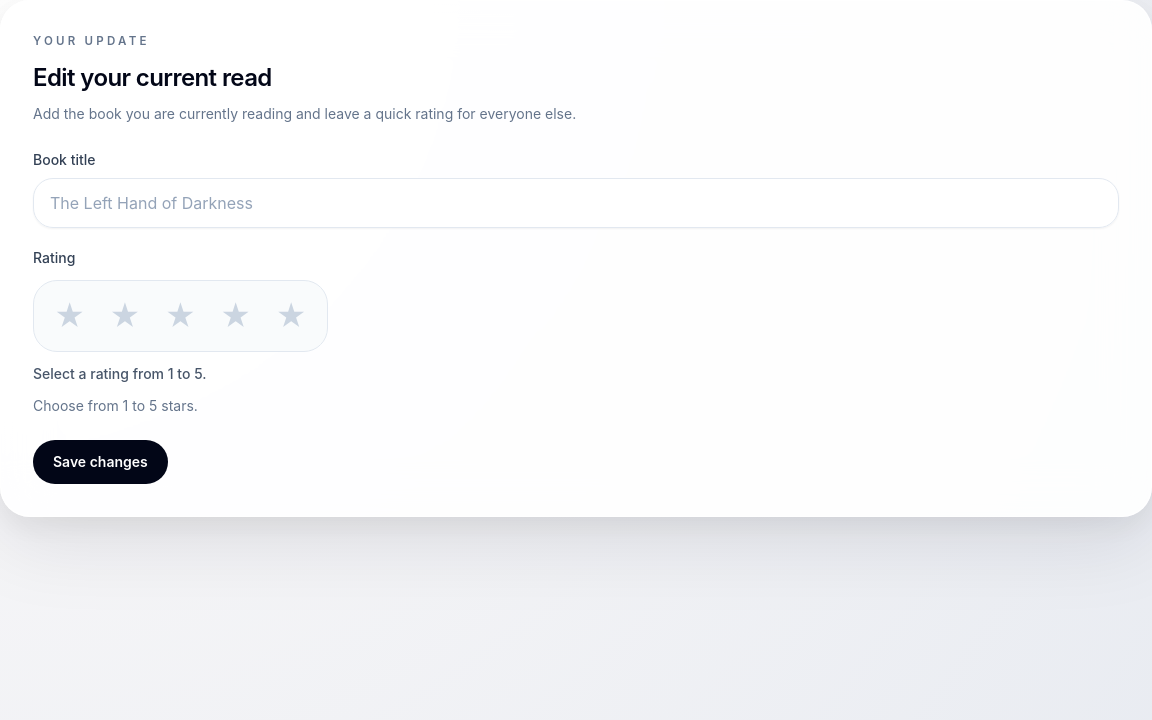
CurrentReadingForm › shows validation messages for blank title and out-of-range rating
Click the button "Save changes".
click(100, 462)  # box [33,440,168,484]
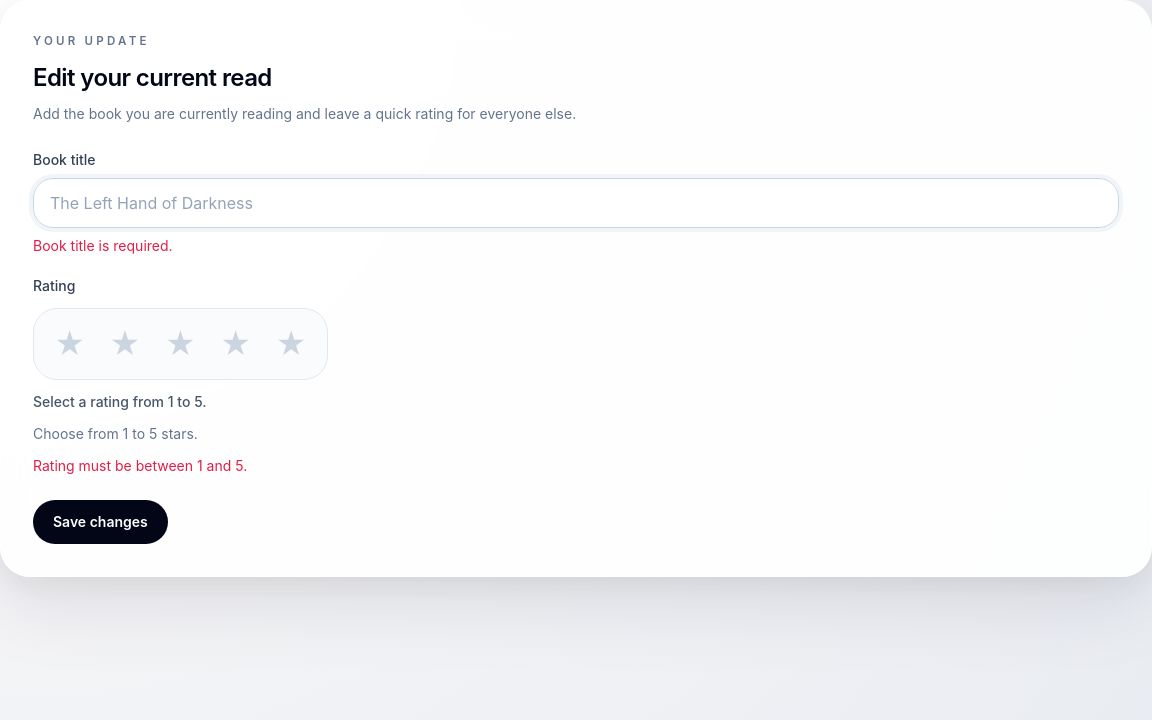
expect the text "Book title is required." is shown: met, box [33,237,173,254]
expect the text "Rating must be between 1 and 5." is shown: met, box [33,457,247,474]
